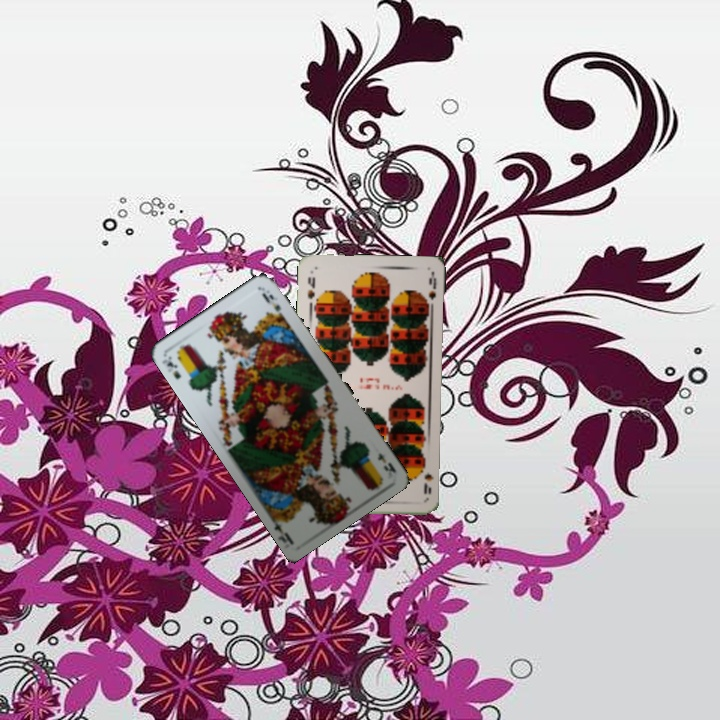EK: (158, 352, 183, 382), (373, 448, 398, 475)
S9: (416, 459, 435, 497), (304, 273, 317, 301)
